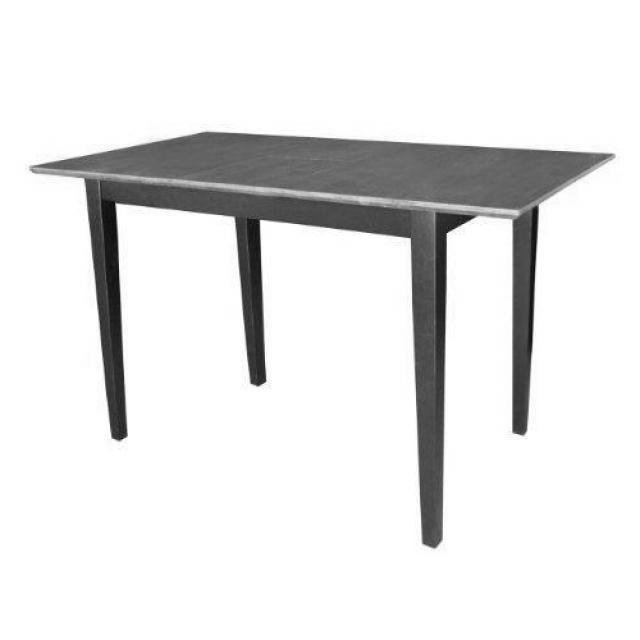table: (29, 120, 619, 545)
